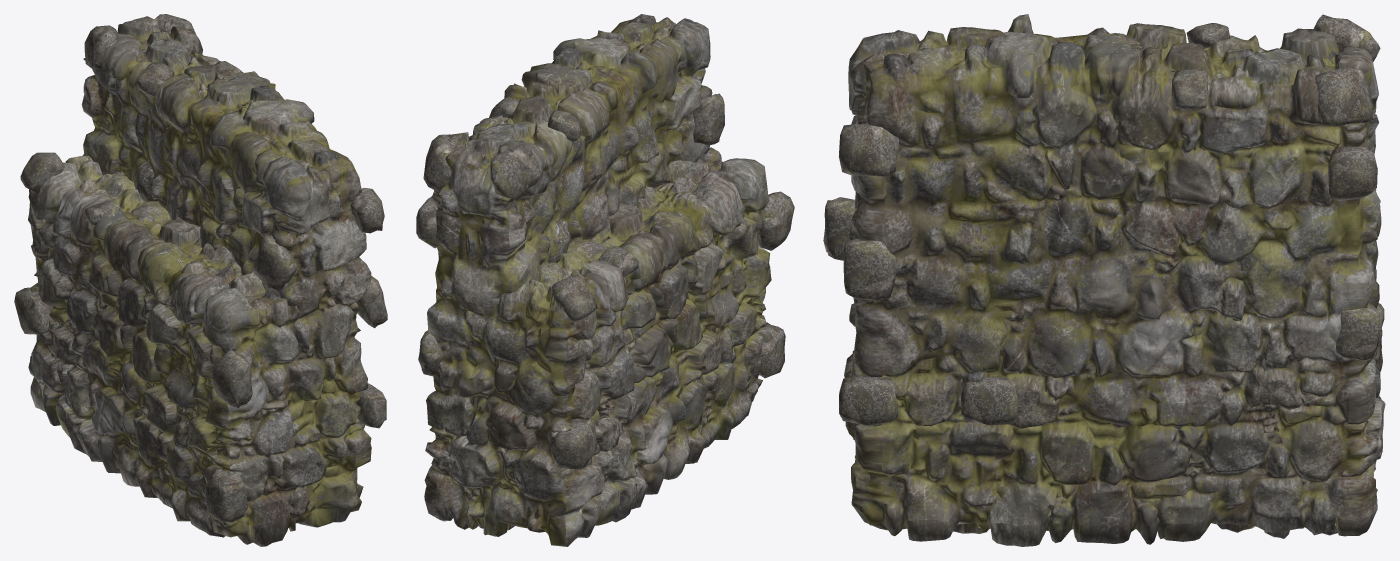
Rendered from SM_Wall_Stone_01.fbx.
3 views of the same model, side by side, from view 1: azimuth 30°, elevation 25°; view 2: azimuth 150°, elevation 25°; view 3: azimuth 270°, elevation 25° (orthographic). The views are drawn at different scales.
Parts seen in each view (by area): view 1: SM_Wall_Stone_01_LOD0; view 2: SM_Wall_Stone_01_LOD0; view 3: SM_Wall_Stone_01_LOD0.
Part boxes in pixels (x1,y1,x2,y2): SM_Wall_Stone_01_LOD0: (14, 14, 387, 546); SM_Wall_Stone_01_LOD0: (416, 14, 794, 546); SM_Wall_Stone_01_LOD0: (823, 14, 1385, 546).
Size of the model in its own units: 151 by 334 by 322.
